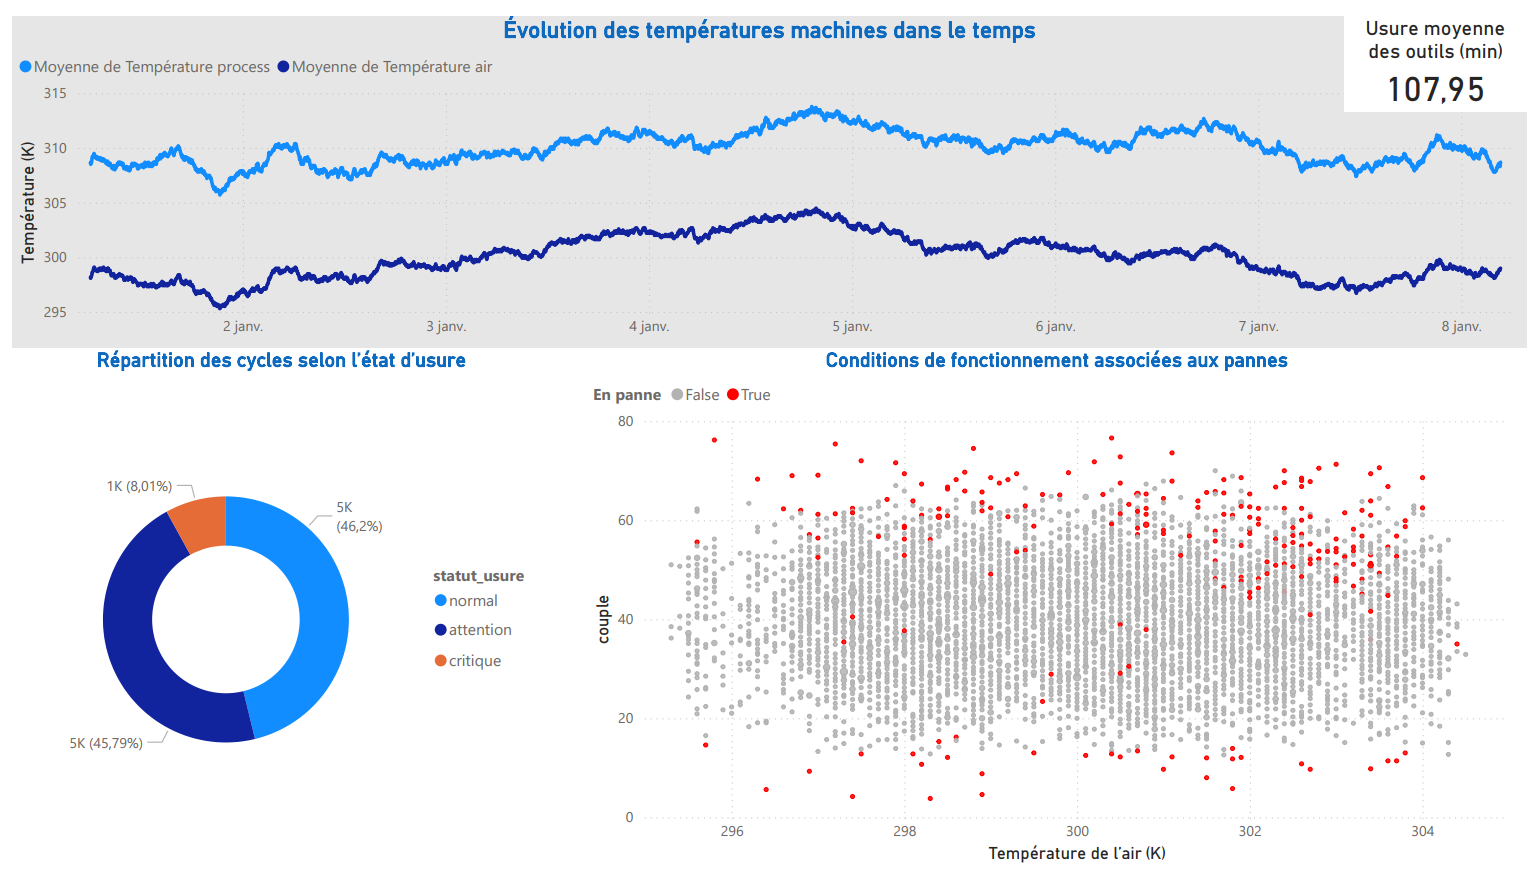

Layout of this report page (visuals, bound fields, positions):
{"tool":"powerbi","page":{"name":"Dash 2","canvas":[1280,720],"ordinal":1},"visuals":[{"type":"lineChart","title":"Évolution des températures machines dans le temps","fields":{"Y":["Avg(public fait_capteurs.temp_process)","Avg(public fait_capteurs.temp_air)"],"Category":["public dim_temps.timestamp"]},"box":[0,0,1280,280],"z":0},{"type":"donutChart","title":"Répartition des cycles selon l’état d’usure","fields":{"Category":["public fait_capteurs.statut_usure"],"Y":["public fait_capteurs.Nb cycles"]},"box":[0,280,455,440],"z":1000},{"type":"card","title":"Usure moyenne des outils (min)","fields":{"Values":["public fait_capteurs.Usure moyenne"]},"box":[1126,0,154,81],"z":2000},{"type":"scatterChart","title":"Conditions de fonctionnement associées aux pannes","fields":{"X":["Sum(public fait_capteurs.temp_air)"],"Y":["public fait_capteurs.couple"],"Size":["CountNonNull(public fait_capteurs.usure_outil)"],"Series":["public fait_capteurs.machine_failure"]},"box":[486,280,794,440],"z":3000}]}

Visuals, with their boxes on the page's 1280x720 design canvas (x1, y1, x2, y2). These are canvas units, not pixel positions in the 1535x893 screenshot, which may show the page scaled, cropped or inside an application window:
"Évolution des températures machines dans le temps" lineChart: <box>0,0,1280,280</box>
"Répartition des cycles selon l’état d’usure" donutChart: <box>0,280,455,720</box>
"Usure moyenne des outils (min)" card: <box>1126,0,1280,81</box>
"Conditions de fonctionnement associées aux pannes" scatterChart: <box>486,280,1280,720</box>
